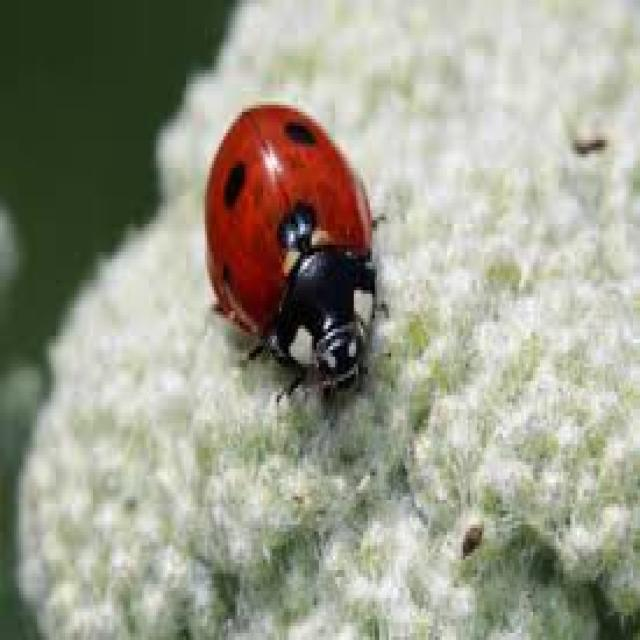ladybug: (205, 105, 382, 392)
